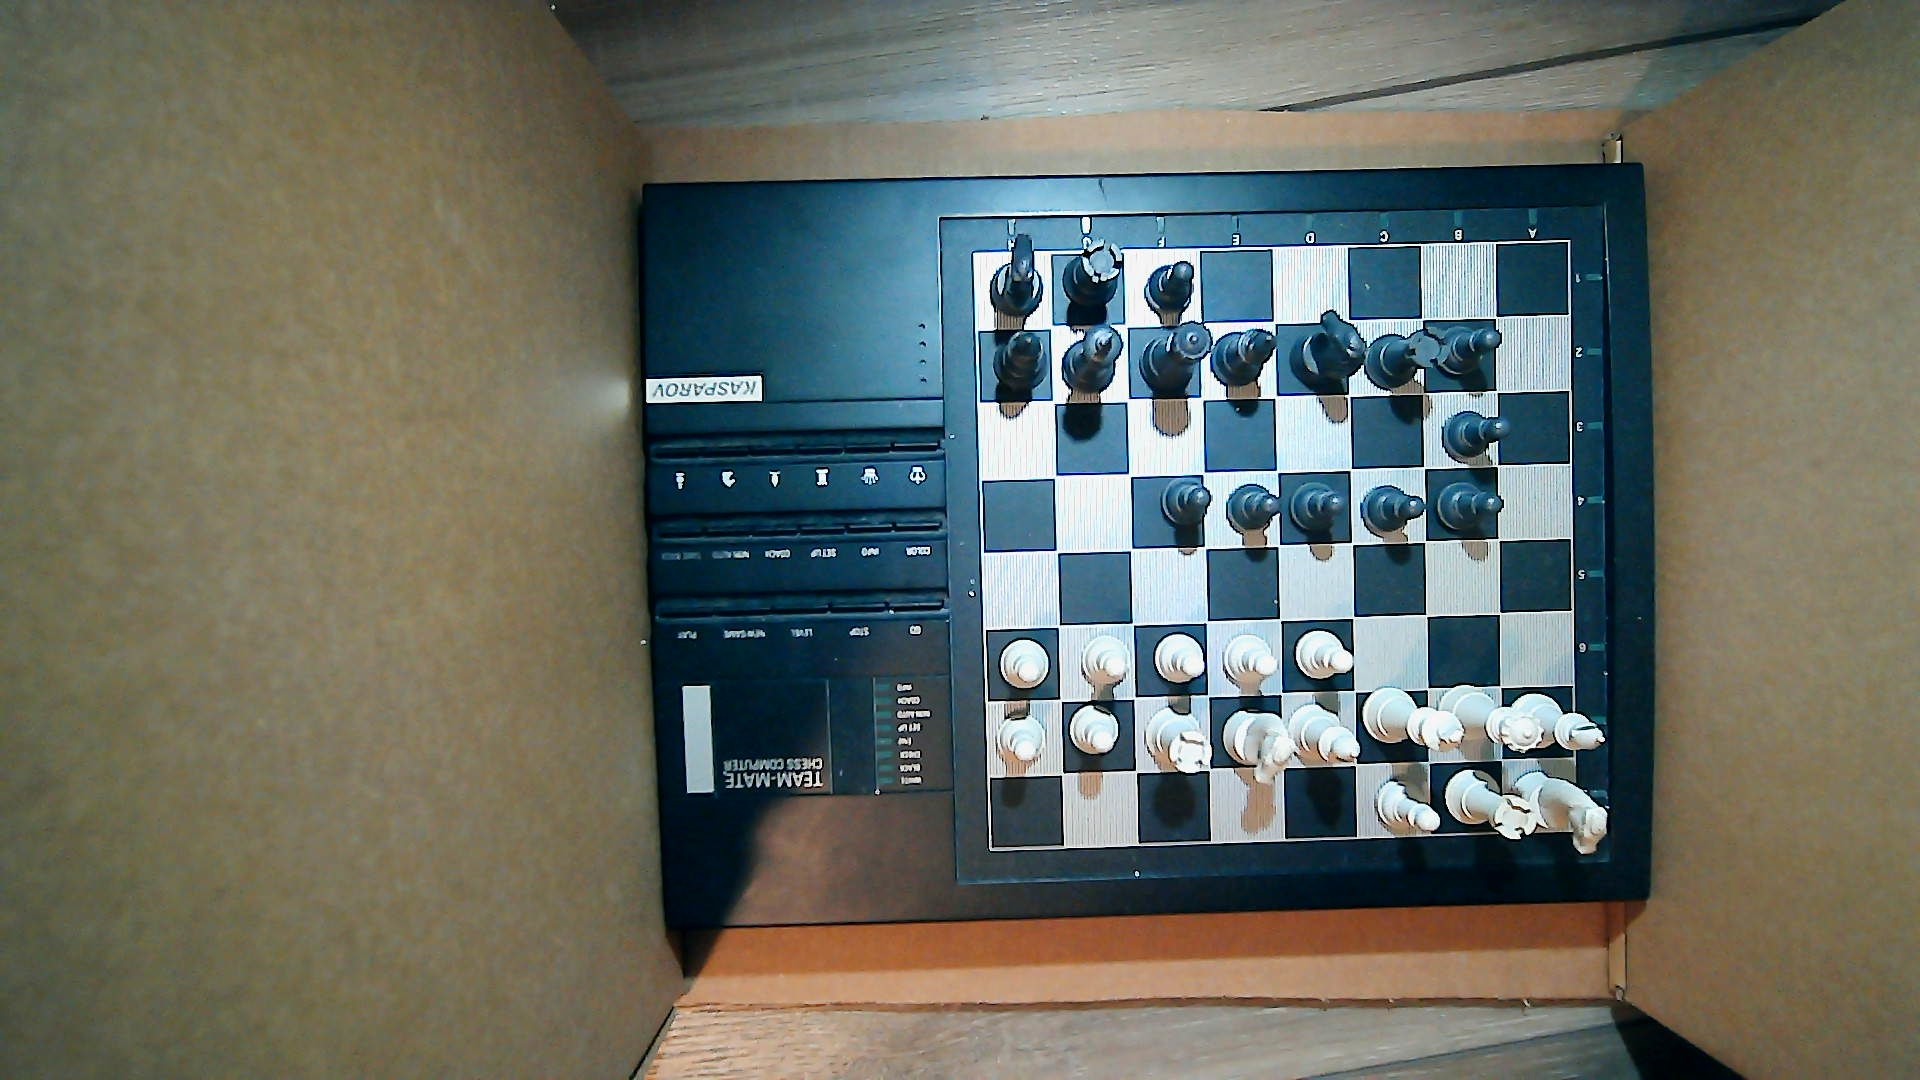bbishop: (1211, 327, 1276, 388), (993, 332, 1051, 392)
bking: (1058, 323, 1124, 393)
bknight: (1288, 307, 1366, 386)
bpawn: (1435, 480, 1505, 531), (1441, 322, 1503, 378), (1443, 411, 1515, 458), (1360, 485, 1425, 535), (1290, 483, 1350, 535), (1225, 483, 1284, 534), (1158, 475, 1213, 527), (1143, 260, 1196, 313)
bqueen: (1135, 320, 1215, 393)
brook: (1365, 326, 1451, 390), (1062, 237, 1124, 309)
wbishop: (1515, 691, 1607, 752), (1288, 702, 1365, 771)
wking: (1361, 684, 1466, 753)
wknight: (1516, 771, 1607, 856), (1222, 705, 1298, 787), (989, 233, 1044, 319)
wpawn: (1373, 775, 1443, 833), (1294, 626, 1354, 680), (1222, 632, 1279, 688), (1077, 633, 1131, 687), (1153, 632, 1207, 684), (1067, 705, 1120, 758), (998, 638, 1051, 690), (993, 715, 1047, 762)
wqueen: (1444, 687, 1545, 756)
wrook: (1443, 765, 1538, 843), (1143, 705, 1215, 775)
